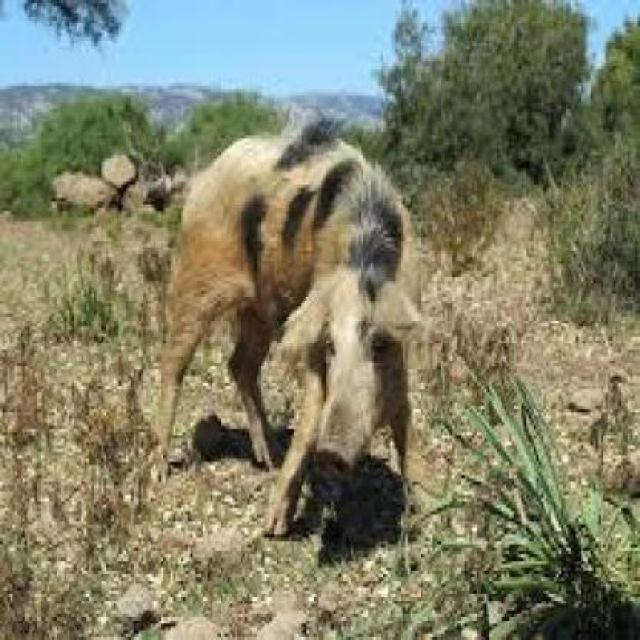wildboar: (130, 103, 438, 560)
